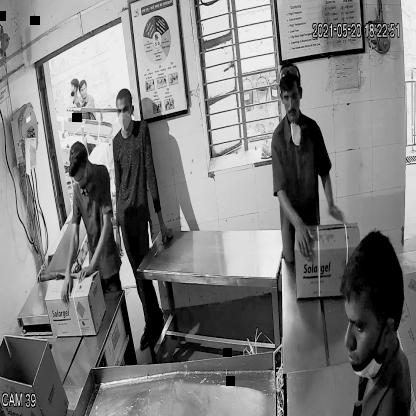no_goggles: (278, 83, 304, 107), (113, 104, 134, 118)
